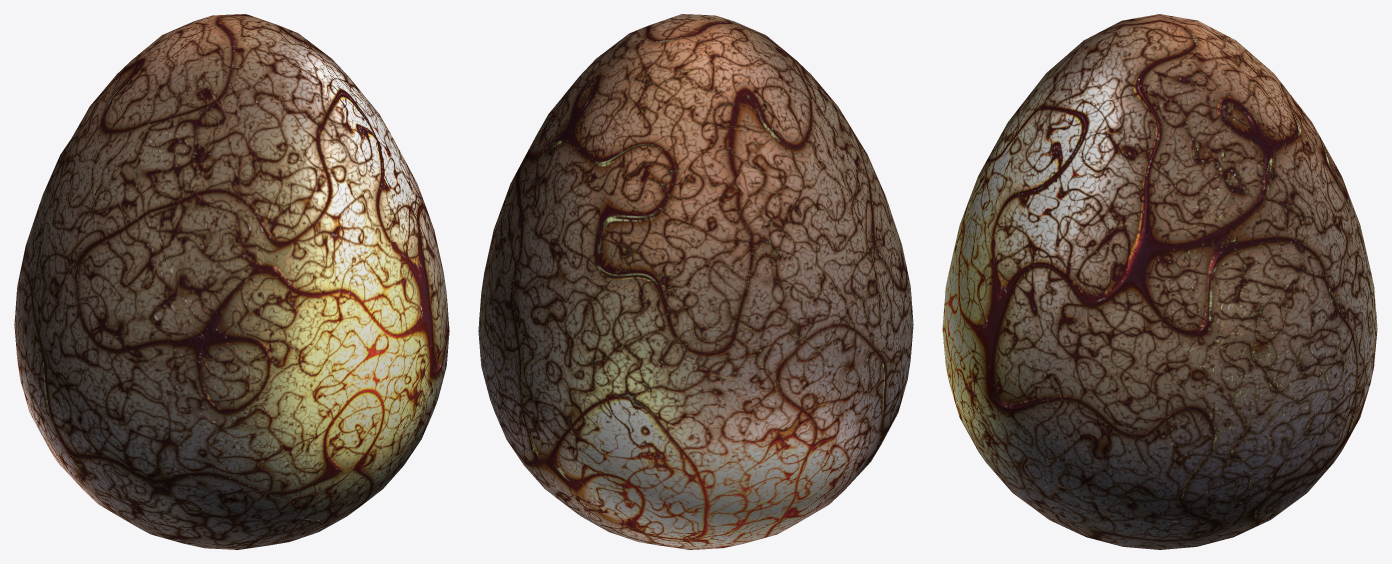
The picture shows the model from 3 angles, left to right: view 1: azimuth 30°, elevation 25°; view 2: azimuth 150°, elevation 25°; view 3: azimuth 270°, elevation 25°; orthographic projection.
Visible parts, largest first — view 1: Egg.000; view 2: Egg.000; view 3: Egg.000.
Boxes of the visible parts, bbox=[...] form: Egg.000: bbox=[14, 14, 449, 549]; Egg.000: bbox=[478, 14, 913, 549]; Egg.000: bbox=[942, 14, 1377, 549].
Bounding box in the file's own units: 200 × 257 × 200.
Materials: 1 (1 with a texture image).
